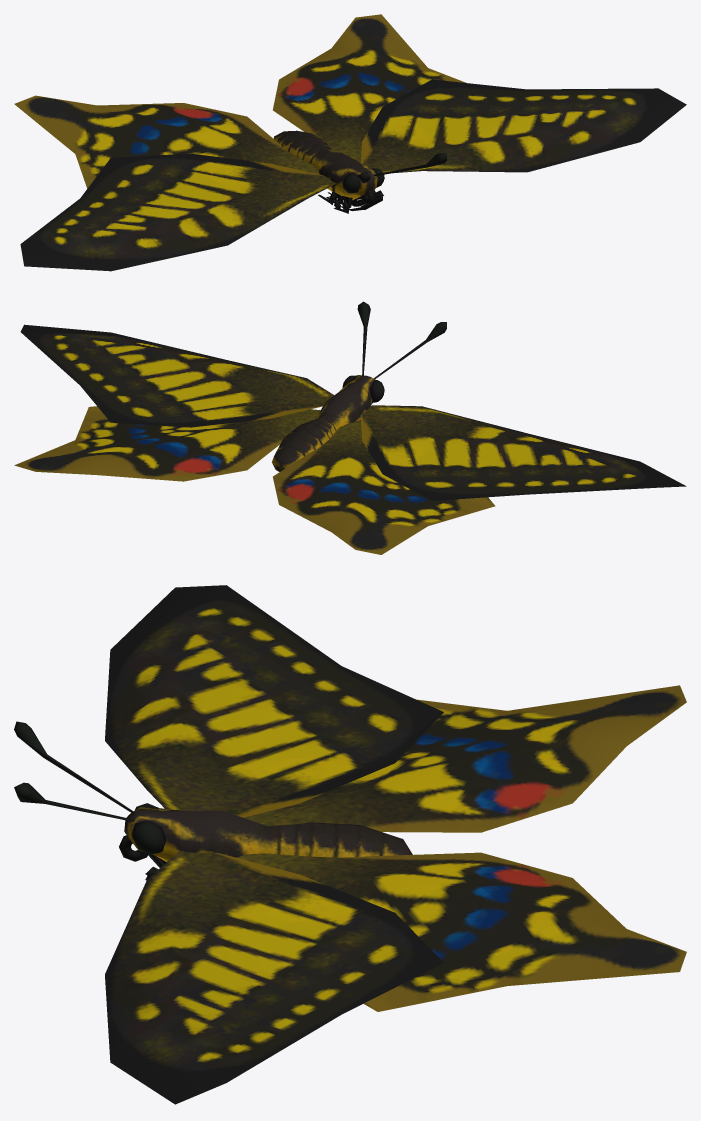
File: InsectAgehacho.glb
3 renders of one model, top to bottom at view 1: azimuth 30°, elevation 25°; view 2: azimuth 150°, elevation 25°; view 3: azimuth 270°, elevation 25°, orthographic. The views are drawn at different scales.
Parts seen in each view (by area): view 1: body20__mAgeha; view 2: body20__mAgeha; view 3: body20__mAgeha.
Boxes of the visible parts, bbox=[...] form: body20__mAgeha: bbox=[14, 14, 686, 271]; body20__mAgeha: bbox=[14, 301, 686, 554]; body20__mAgeha: bbox=[14, 585, 686, 1104].
Bounding box in the file's own units: 6.48 × 0.8733 × 3.56.
Materials: 1 (1 with a texture image).
